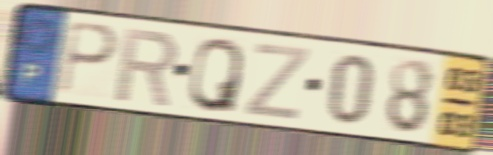0: (325, 52, 379, 128)
8: (384, 56, 436, 136)
P: (56, 18, 121, 97)
Q: (186, 35, 246, 115)
R: (112, 24, 181, 109)
Z: (241, 40, 313, 123)
